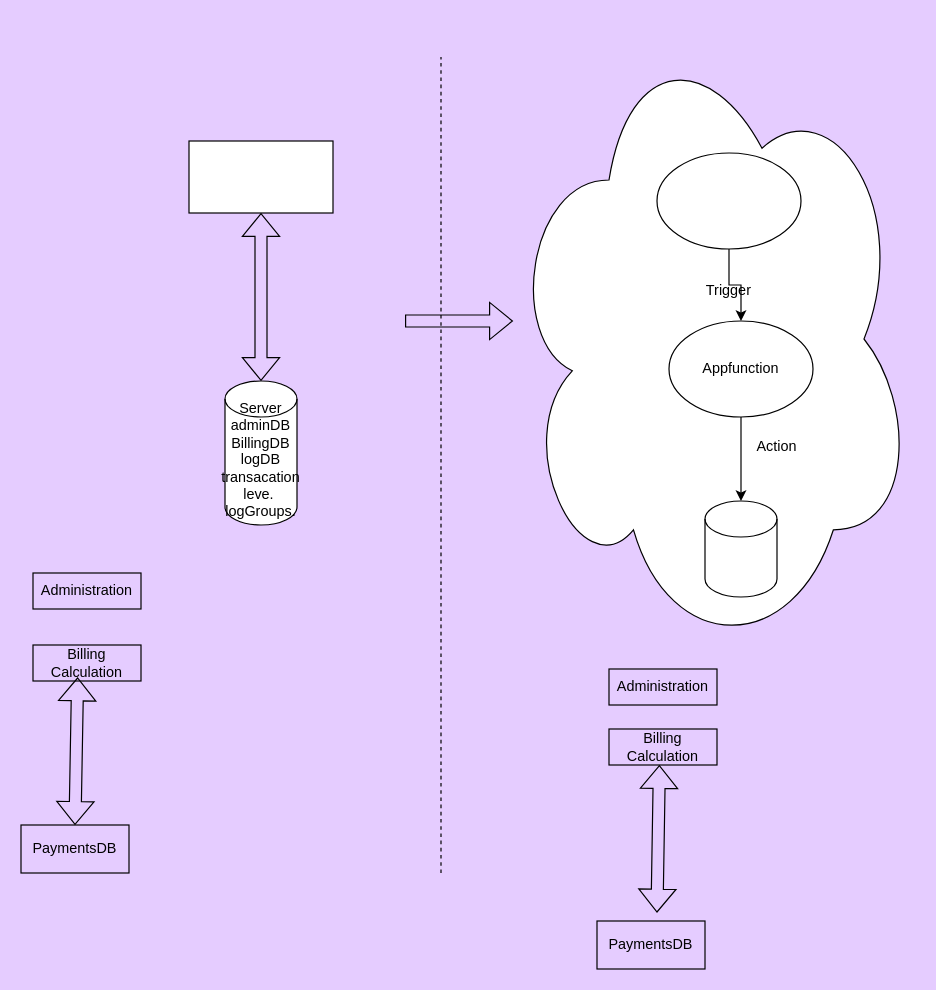
Some shapes in this 936 by 990 pixel diagram are drawn without their labels. Each missing label, with the centre of its shape:
Azure SQL: point (740, 548)
HTTP: point (728, 200)
WebAPI : add/edit user , calculate payment: point (260, 176)
